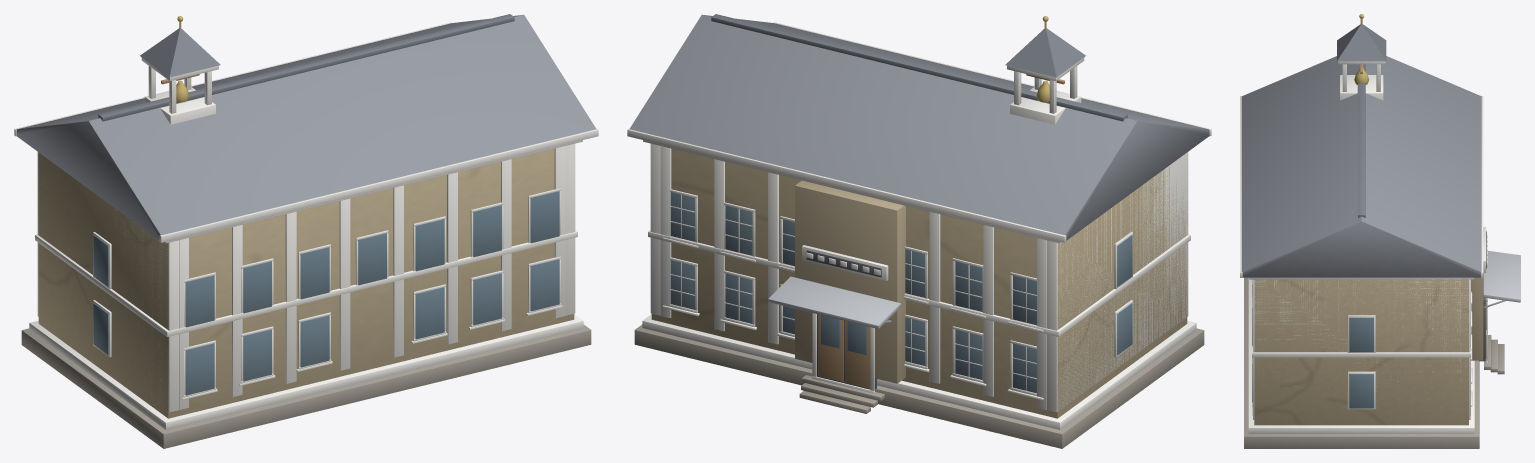
File: th42_schule.glb
The picture shows the model from 3 angles, left to right: view 1: azimuth 30°, elevation 25°; view 2: azimuth 150°, elevation 25°; view 3: azimuth 270°, elevation 25°; orthographic projection. The views are drawn at different scales.
Visible parts, largest first — view 1: Satteldach, Cube.002, Cube, Cube.001, Cube.294, Cube.021, Cube.296, Cube.019, Cone, Cube.007, Cube.009, Cube.013 (+24 smaller); view 2: Satteldach, Cube.002, Cube.019, Cube.269, Cube, Cube.001, Cube.291, Cube.295, Cube.296, Cube.021, Cone, Cube.008 (+29 smaller); view 3: Satteldach, Cube.002, Cube, Cube.001, Cube.020, Cube.291, Cone, Cube.021, Cube.296, Cube.269, Cube.268, Cube.265 (+5 smaller).
Part boxes in pixels (x1,y1,x2,y2): Satteldach: (16, 14, 596, 240); Cube.002: (38, 148, 574, 418); Cube: (21, 324, 591, 448); Cube.001: (29, 314, 583, 429); Cube.294: (159, 129, 598, 242); Cube.021: (35, 230, 577, 336); Cube.296: (98, 14, 514, 121); Cube.019: (37, 152, 178, 412); Cone: (140, 28, 220, 77); Cube.007: (285, 211, 296, 383); Cube.009: (339, 198, 350, 370); Cube.013: (447, 172, 457, 344); Satteldach: (629, 14, 1209, 240); Cube.002: (651, 148, 1187, 418); Cube.019: (1047, 152, 1188, 412); Cube.269: (795, 180, 905, 383); Cube: (634, 324, 1204, 448); Cube.001: (642, 314, 1196, 429); Cube.291: (768, 276, 900, 328); Cube.295: (627, 129, 1066, 242); Cube.296: (711, 14, 1127, 121); Cube.021: (648, 230, 1190, 336); Cone: (1005, 28, 1085, 77); Cube.008: (929, 211, 940, 383); Satteldach: (1241, 56, 1481, 277); Cube.002: (1254, 279, 1468, 425); Cube: (1244, 277, 1479, 448); Cube.001: (1248, 278, 1474, 433); Cube.020: (1253, 279, 1470, 419); Cube.291: (1483, 250, 1520, 302); Cone: (1337, 24, 1386, 61); Cube.021: (1252, 291, 1471, 357); Cube.296: (1358, 64, 1365, 217); Cube.269: (1471, 277, 1483, 360); Cube.268: (1349, 317, 1373, 351); Cube.265: (1349, 374, 1373, 408).
Size of the model in its own units: 22.2 by 17.42 by 14.91.
11 materials, 1 textured.
